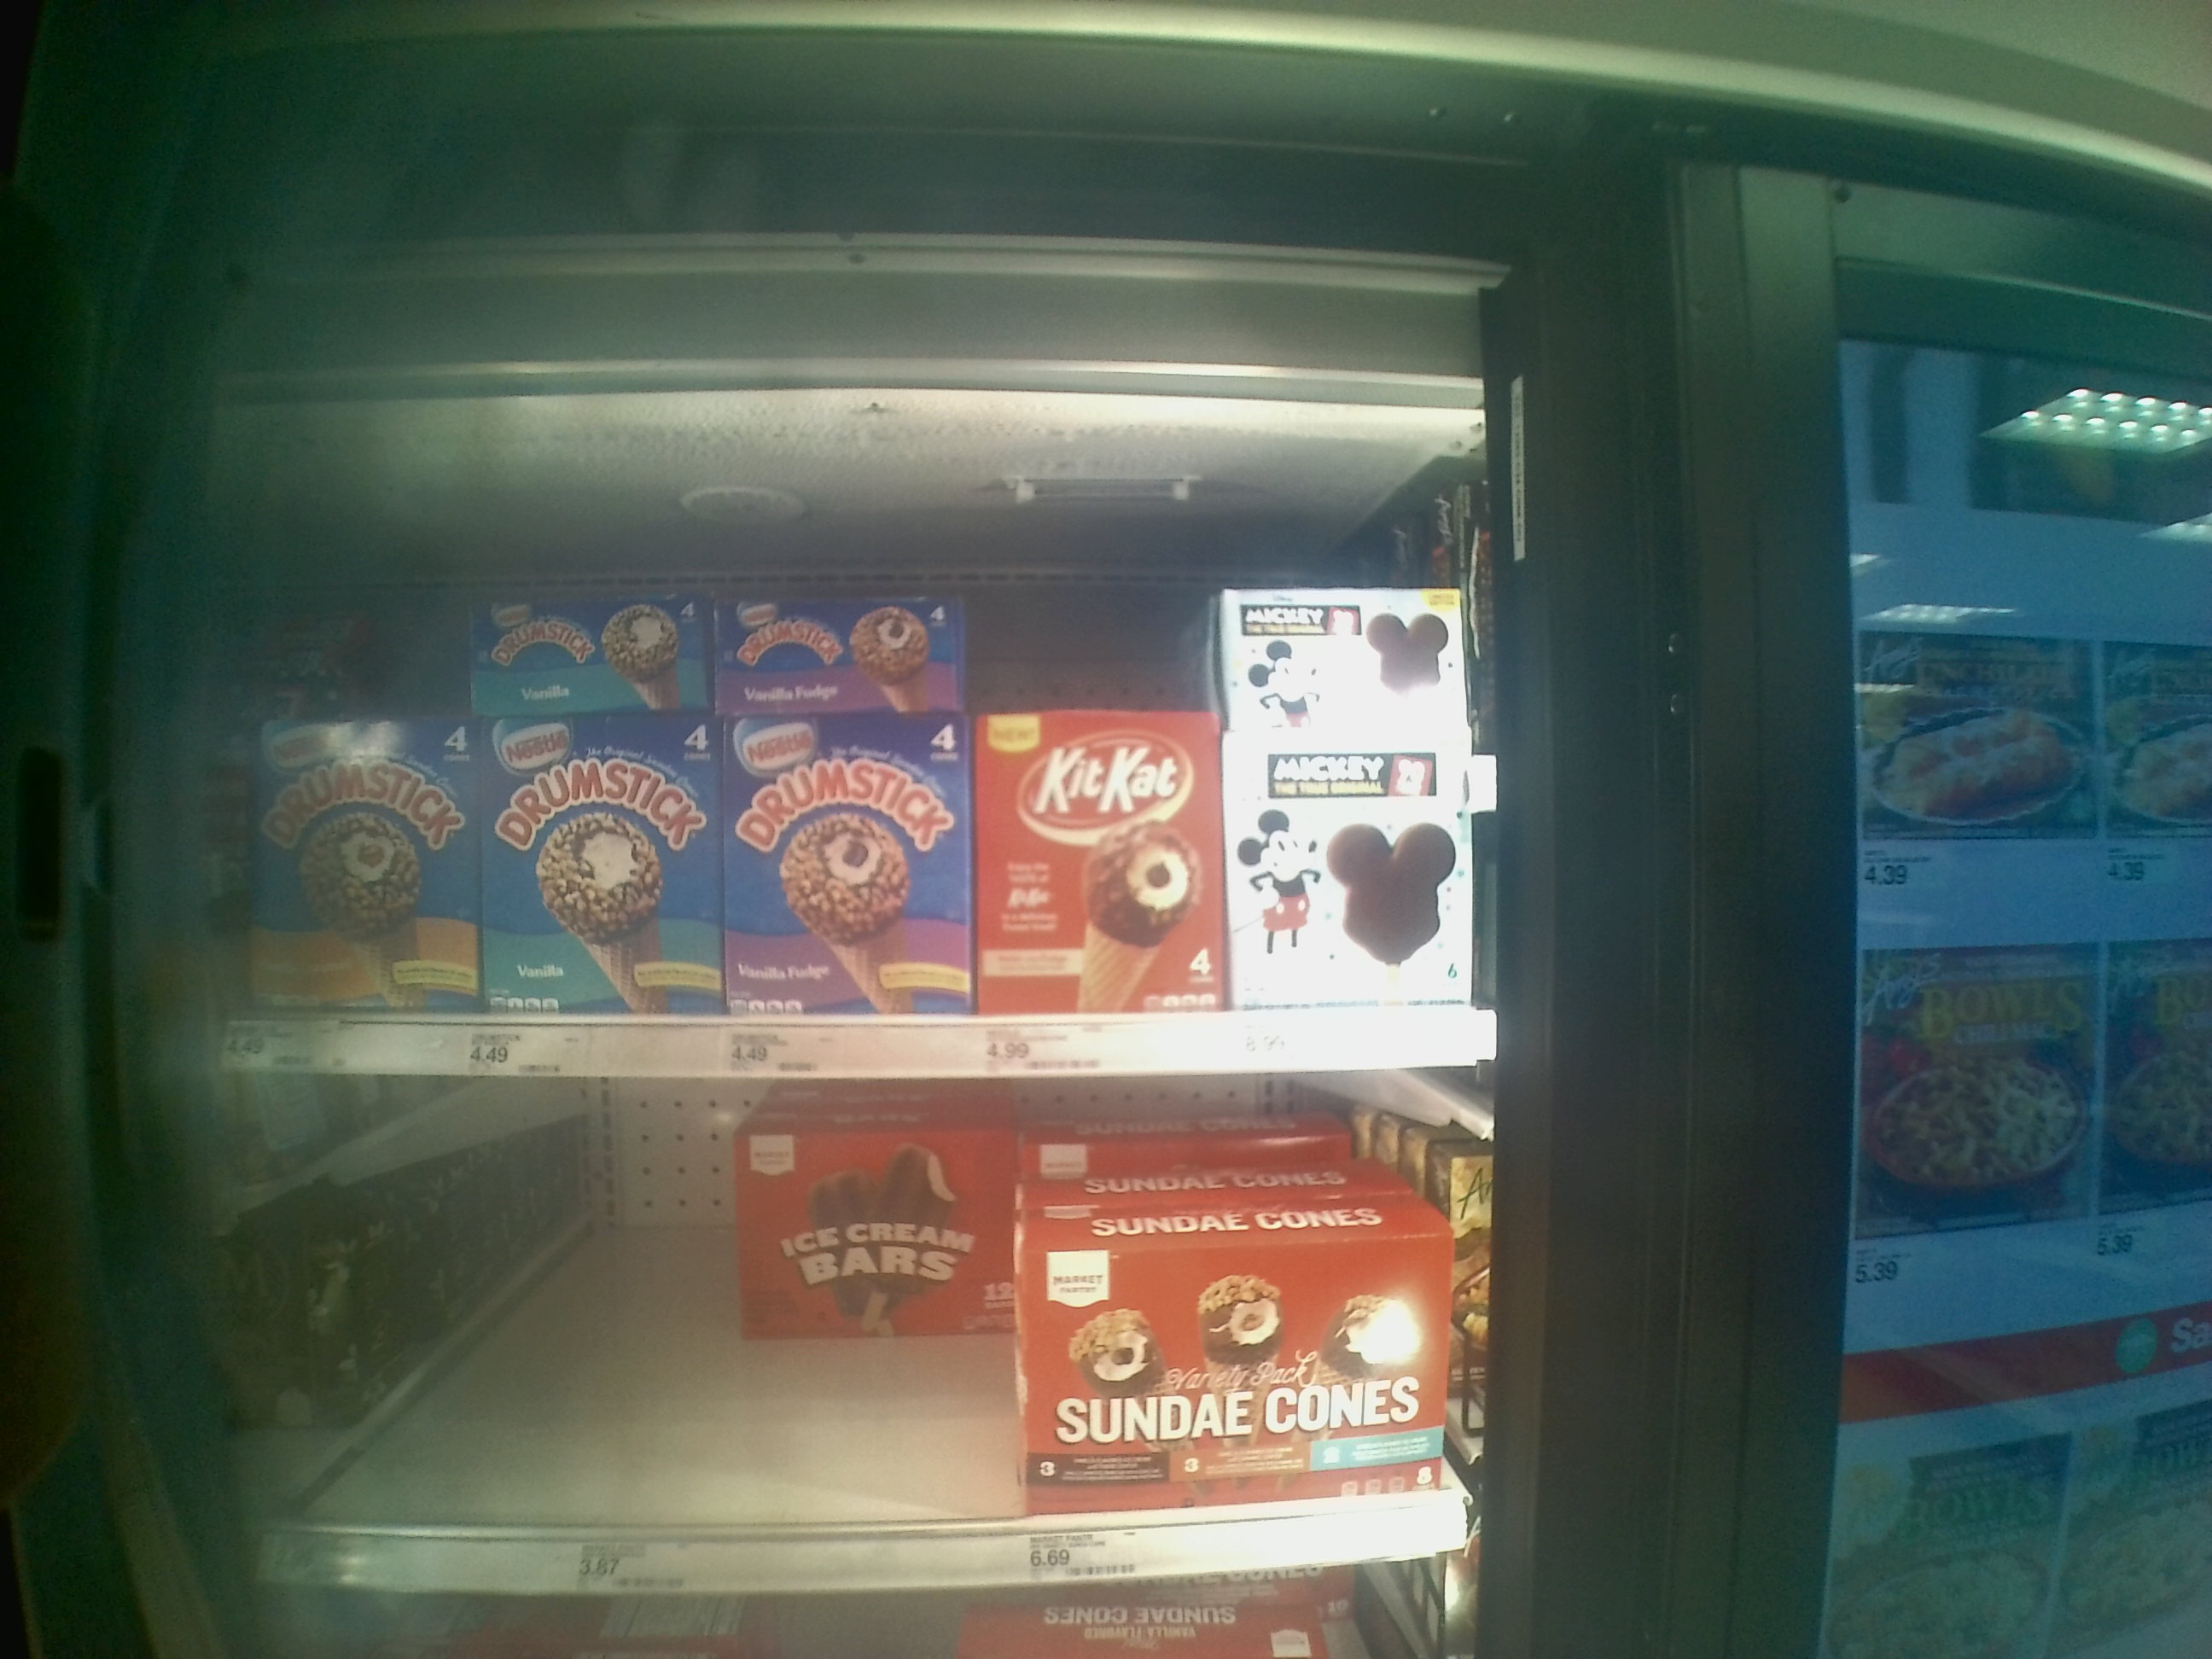shelf: (145, 364, 1498, 1063), (143, 1073, 1475, 1561)
